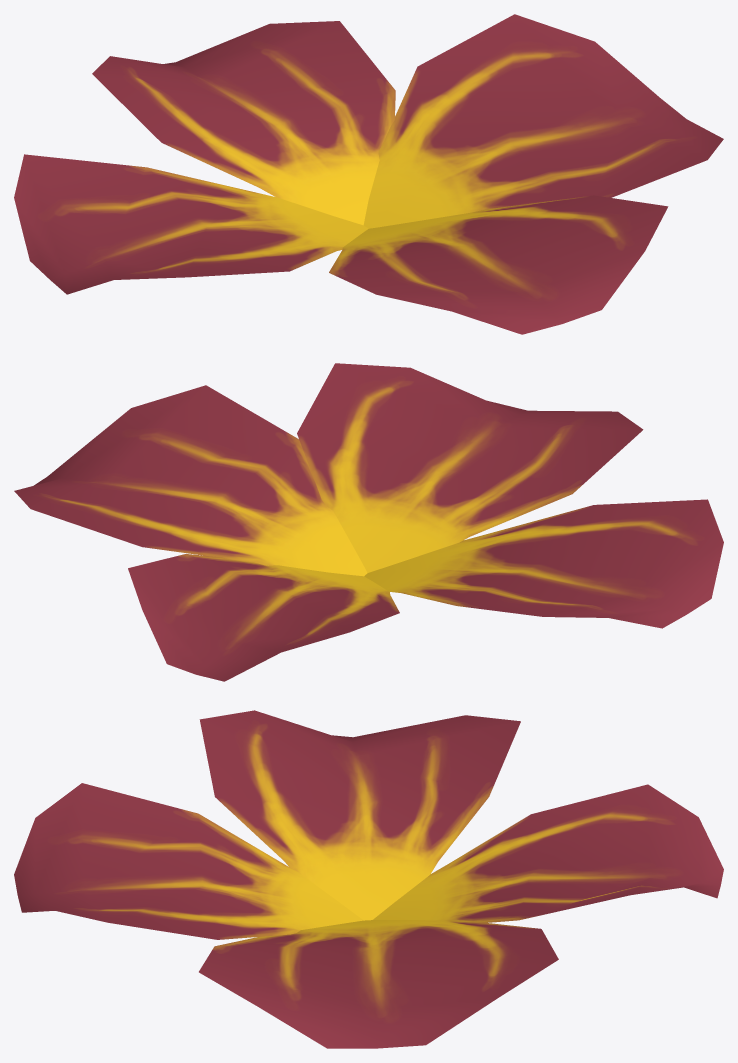
File: MS_Clover.fbx
3 renders of one model, top to bottom at view 1: azimuth 30°, elevation 25°; view 2: azimuth 150°, elevation 25°; view 3: azimuth 270°, elevation 25°, orthographic. The views are drawn at different scales.
Parts seen in each view (by area): view 1: Clover; view 2: Clover; view 3: Clover.
Part boxes in pixels (x1,y1,x2,y2): Clover: [14, 14, 723, 334]; Clover: [14, 363, 723, 681]; Clover: [14, 710, 723, 1048].
Size of the model in its own units: 30.19 by 3.62 by 29.5.
